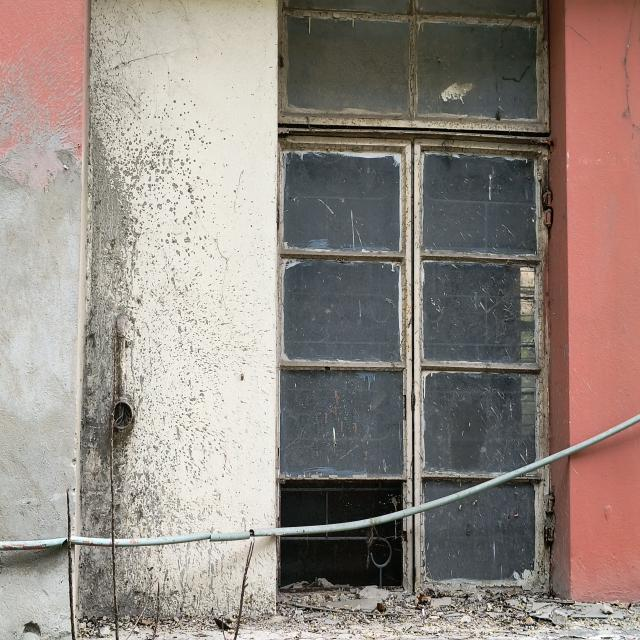crack: (617, 0, 640, 155)
spalling: (0, 70, 96, 640)
